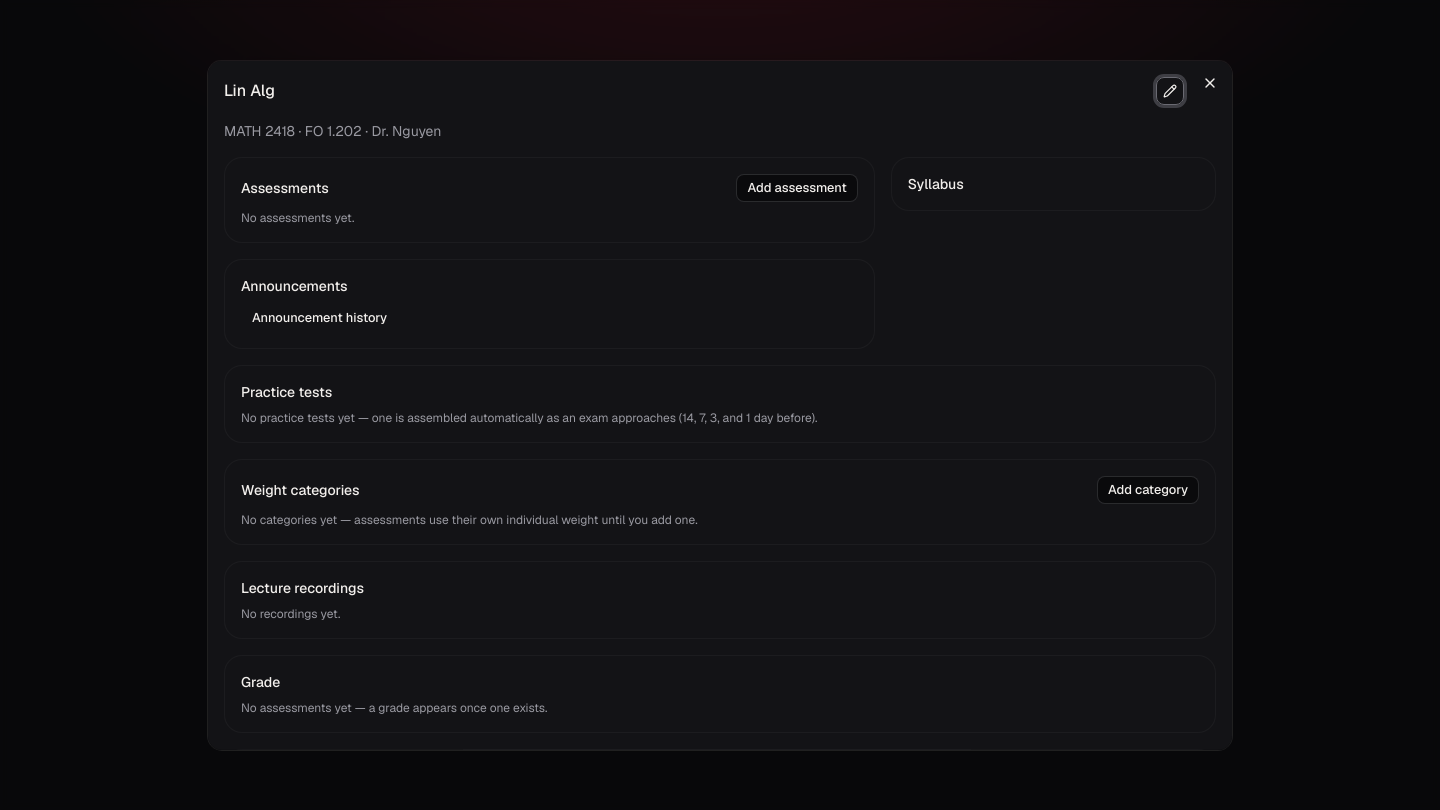
it: ClassDetailDialog › shows Edit when not editing, and swaps to Save+Cancel (Edit fully gone) when editing
Click the button named "Edit Lin Alg".
click(1170, 91)  # box [1156, 77, 1184, 105]
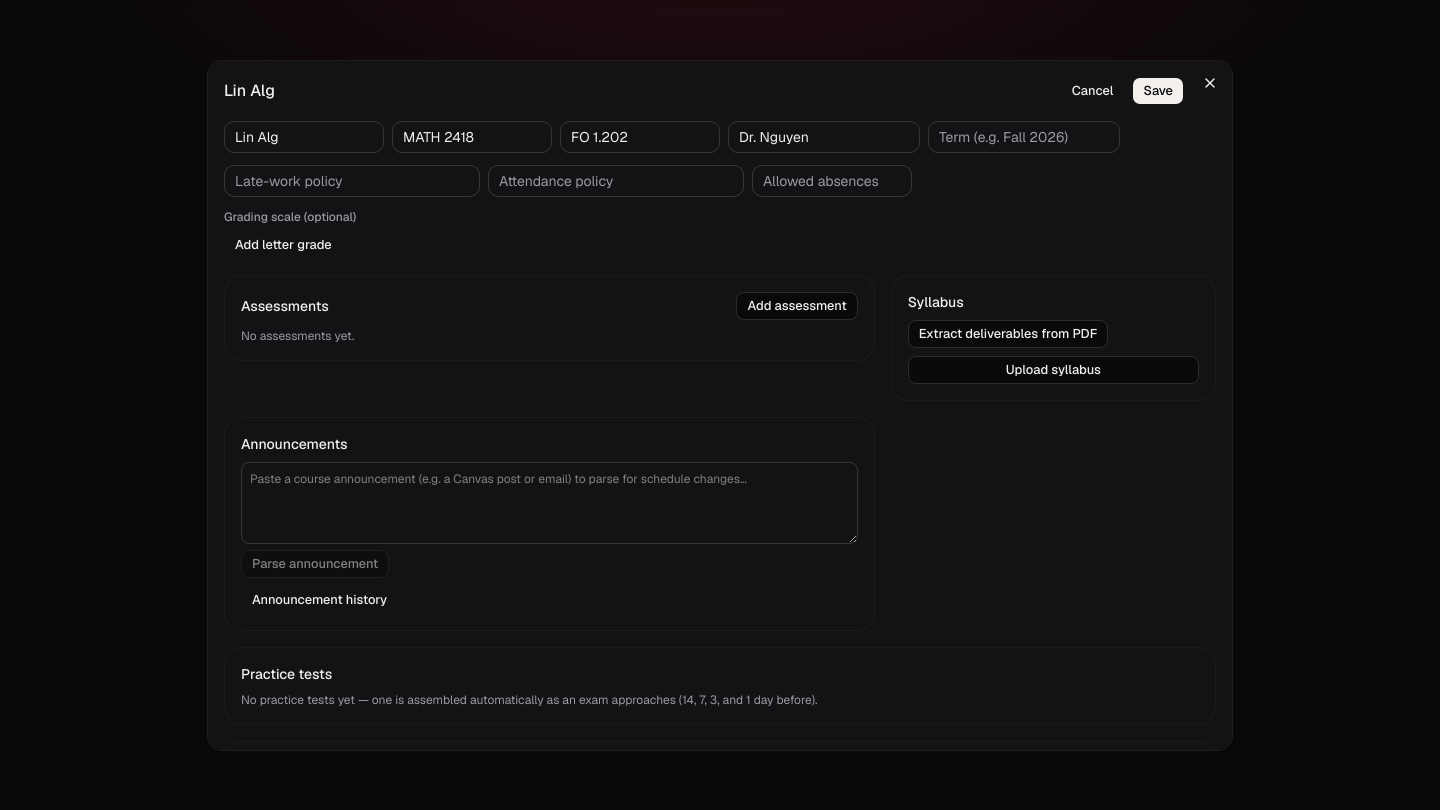
Result: the button with aria-label "Save Lin Alg" is shown at [1132, 77, 1184, 105]
Result: the button with aria-label "Cancel Lin Alg" is shown at [1061, 77, 1124, 105]
